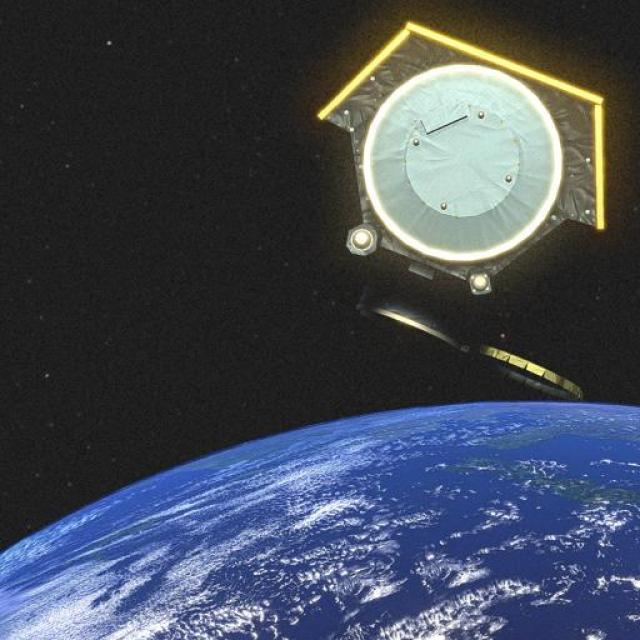debris: (314, 39, 624, 378)
